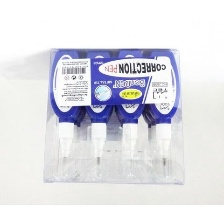correction_fluid: (147, 48, 182, 183), (48, 48, 82, 180), (113, 50, 147, 182), (81, 50, 114, 181)
plastic_box: (40, 43, 188, 188)
